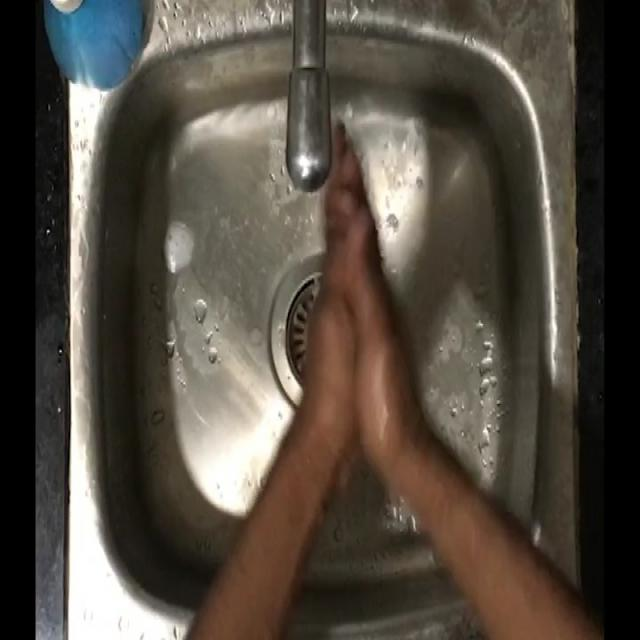step_1: (283, 103, 418, 447)
